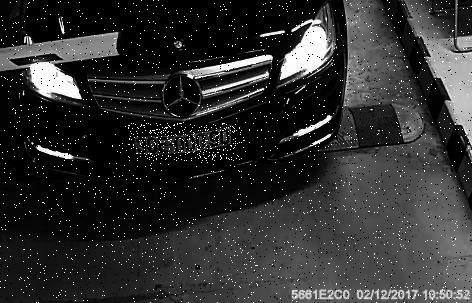License-plate: (129, 125, 244, 163)
